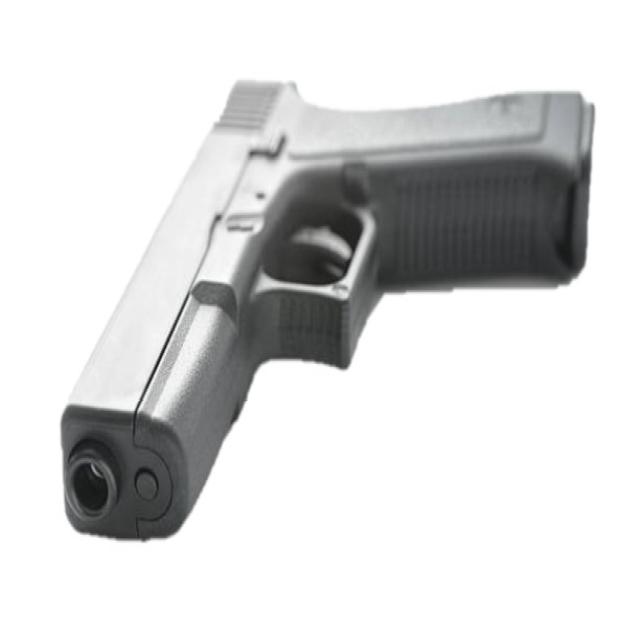pistol: (61, 75, 605, 551)
